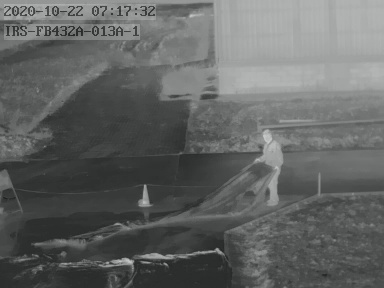person: (260, 129, 281, 204)
